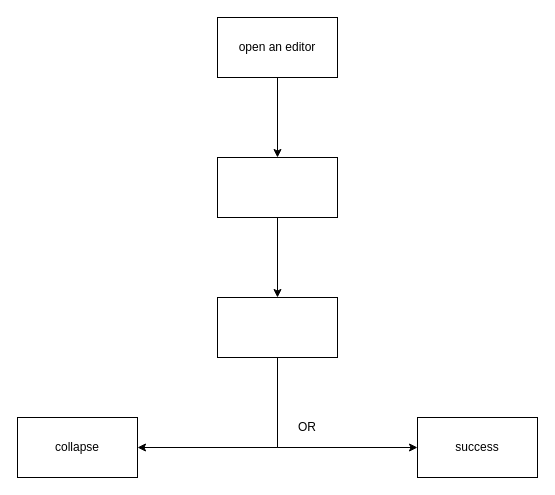
This 555x495 diagram has some shape labels left out. Each missing label, with the centre of its shape:
run: (277,327)
write a helloworld: (277,187)
